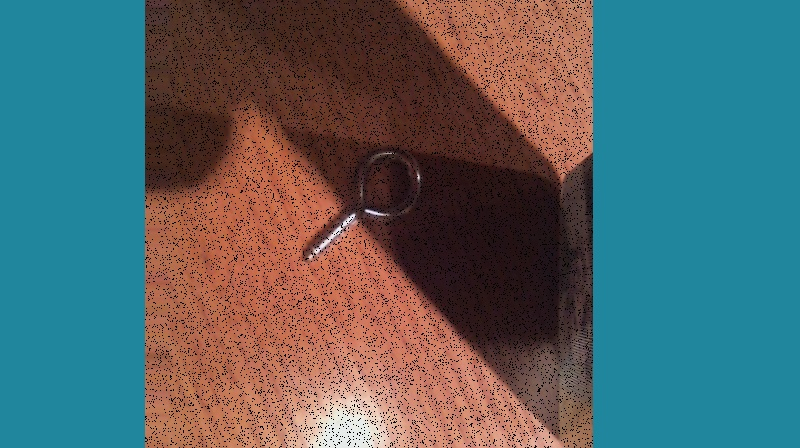O001: (299, 144, 423, 264)
